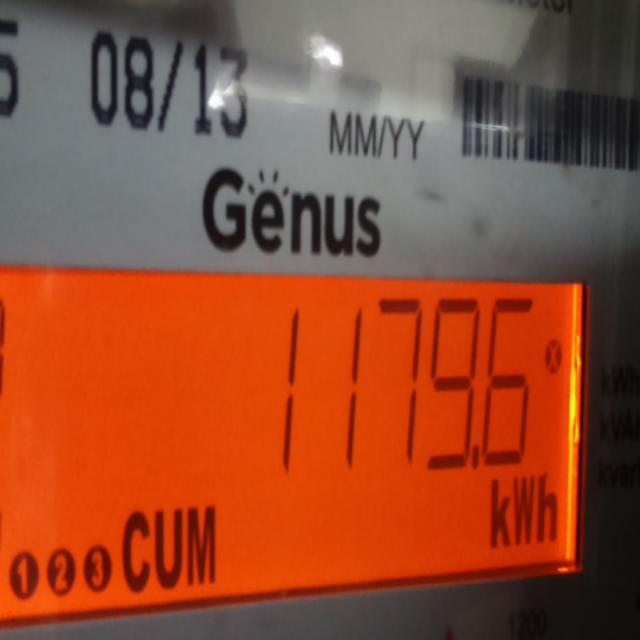.: (469, 437, 482, 478)
1: (270, 304, 316, 483), (328, 299, 369, 475)
6: (484, 292, 536, 478)
7: (371, 288, 425, 476)
9: (425, 295, 482, 480)
